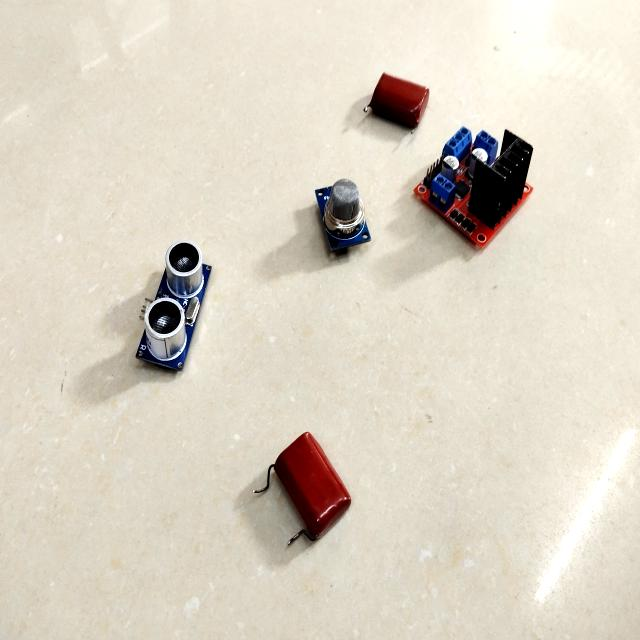capacitor: (268, 435, 347, 539), (370, 75, 429, 130)
